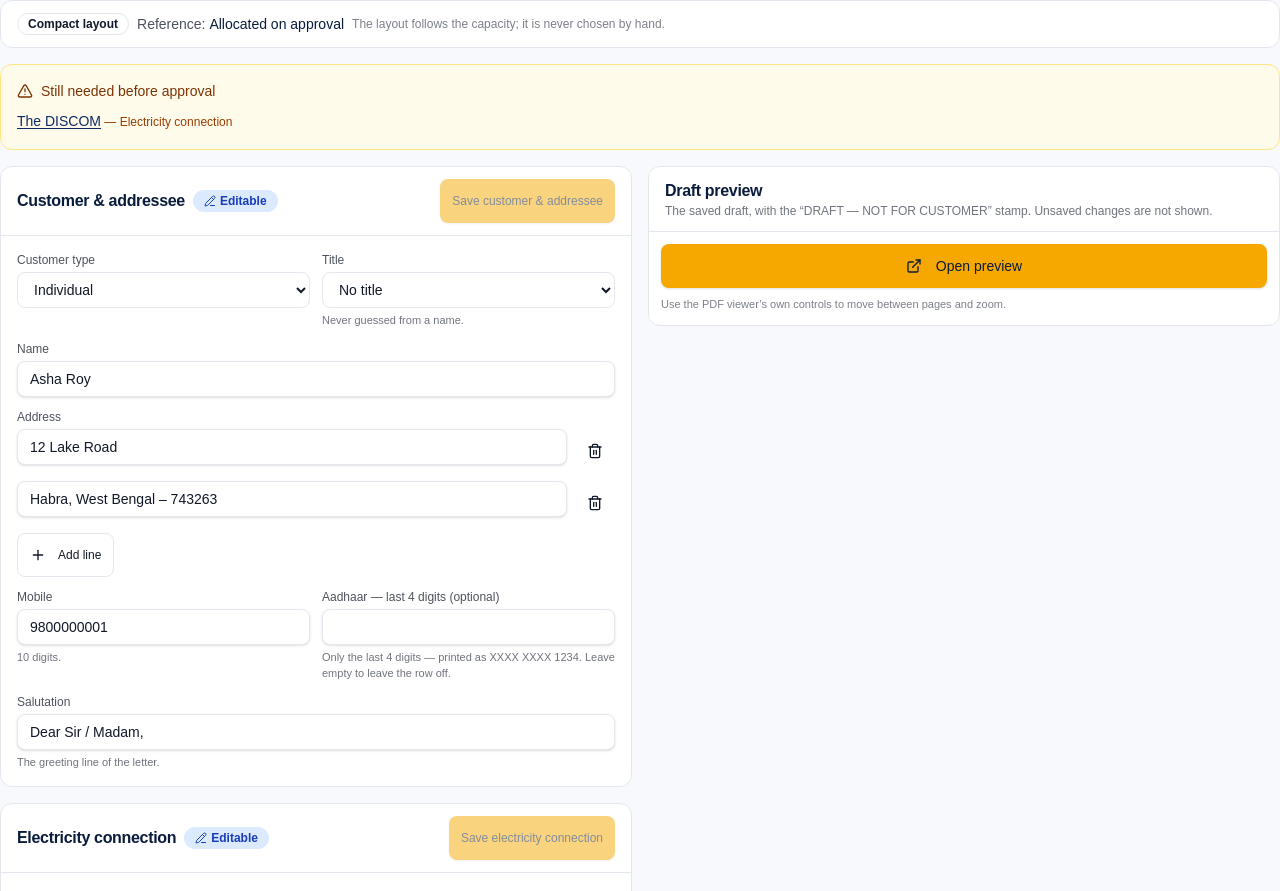
Scenario: server errors land on the right field › {"name":"ApiError","status":422,"detail":"addressee.mobile: must be 10 digits","structuredDetail":{"code":"invalid_value","message":"addressee.mobile: must be 1
Type "x" into the field labelled "Name". click: (316, 378)
box: [17,360,615,396]
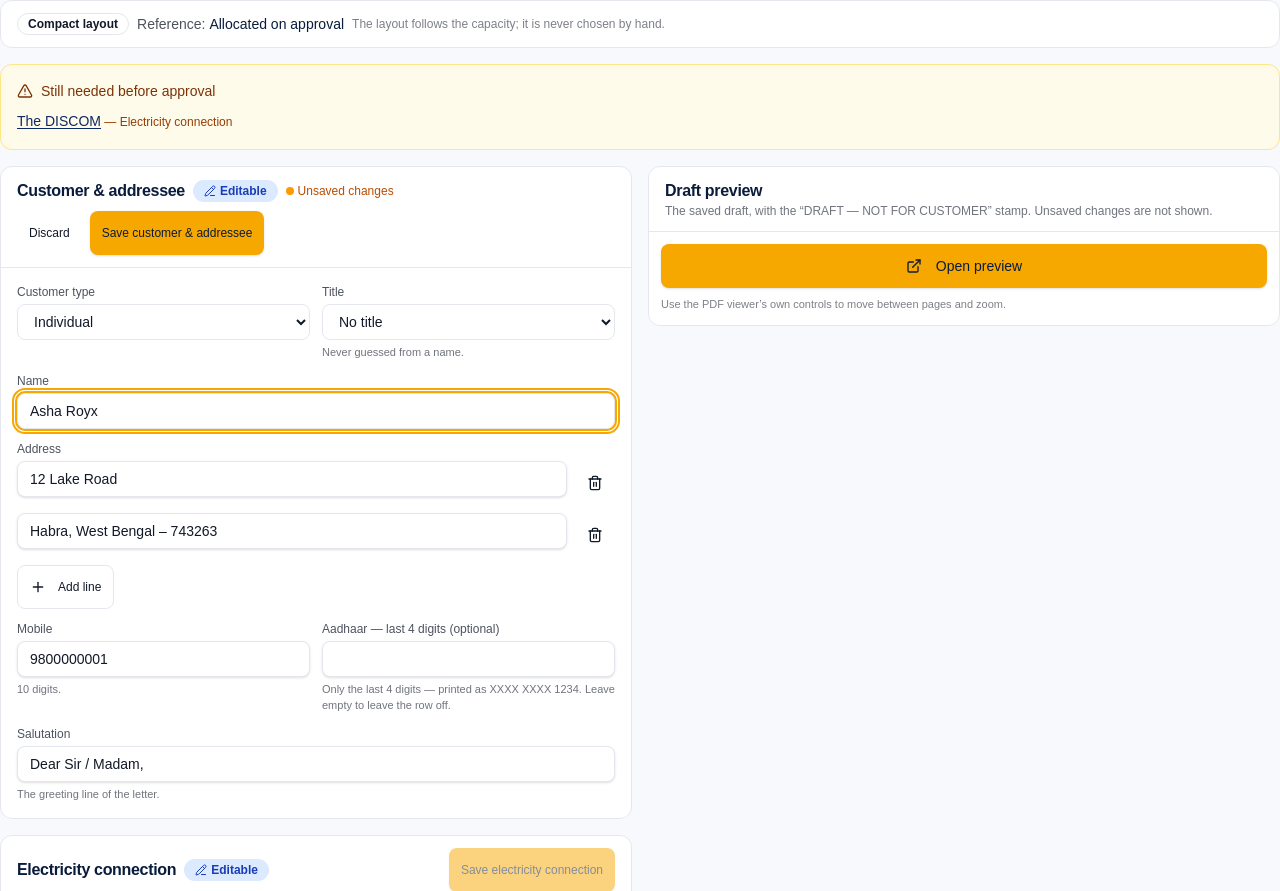
Click the button "Save customer & addressee". click: click(177, 233)
box: [90,211,264,255]
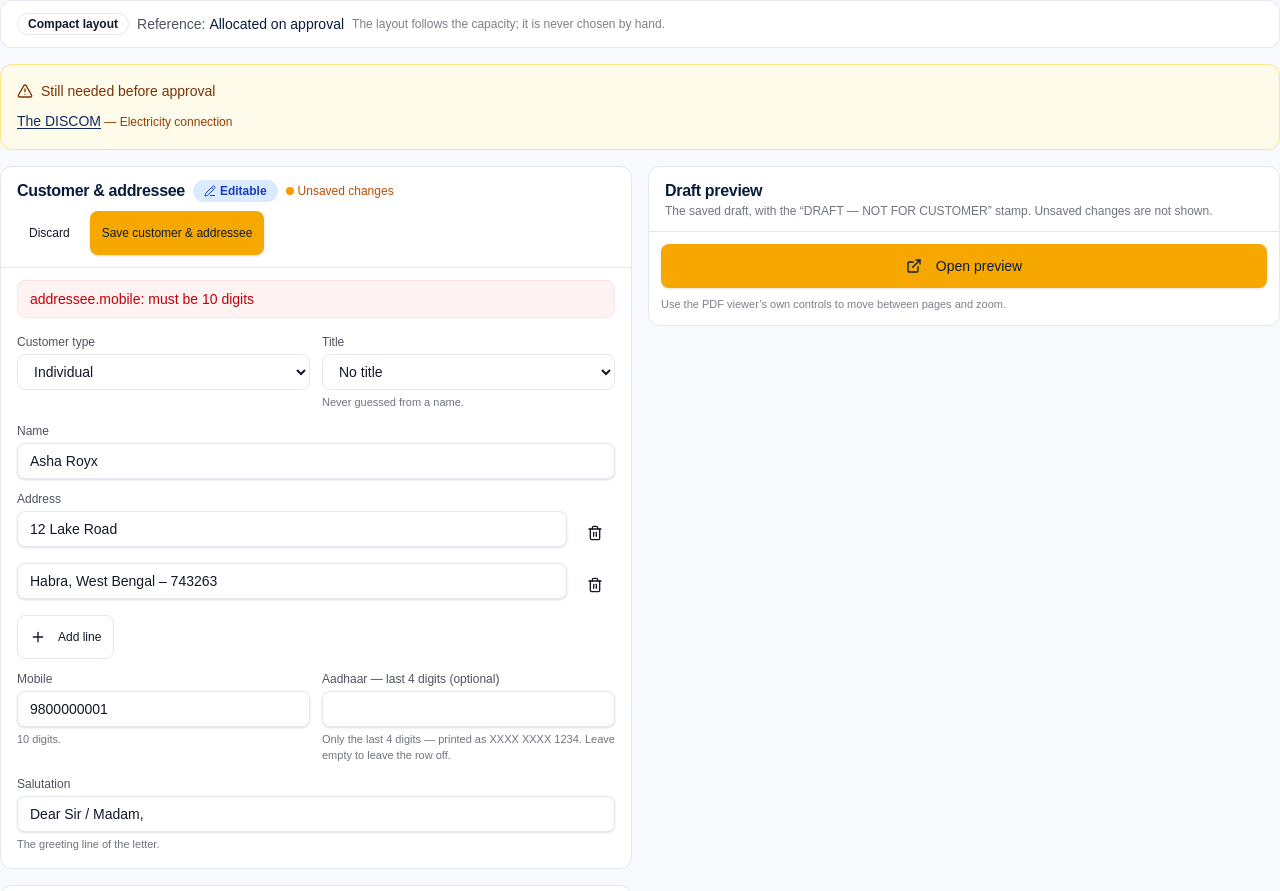
Expected: the text "addressee.mobile: must be 10 digits" is shown, [17,280,615,318]
